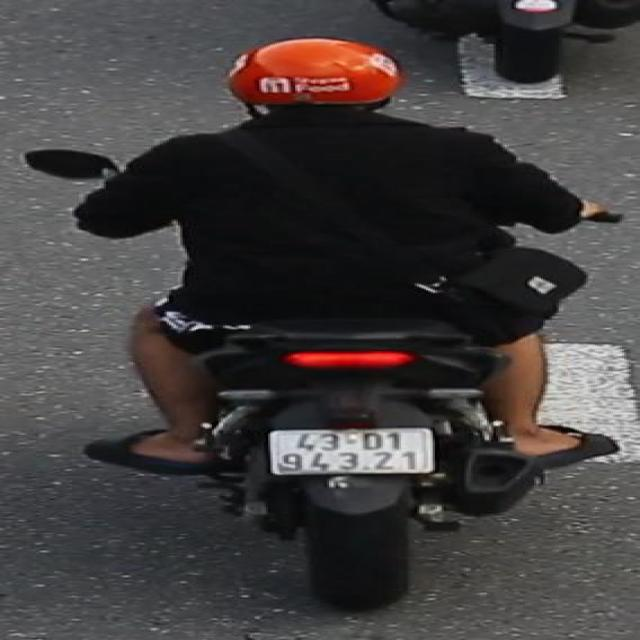LP: (266, 422, 442, 477)
helmet: (223, 32, 412, 126)
